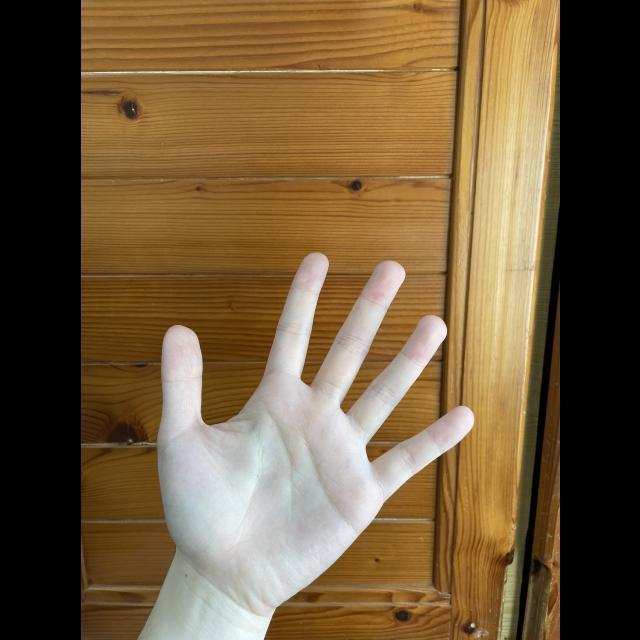bare_hand: (153, 249, 475, 628)
